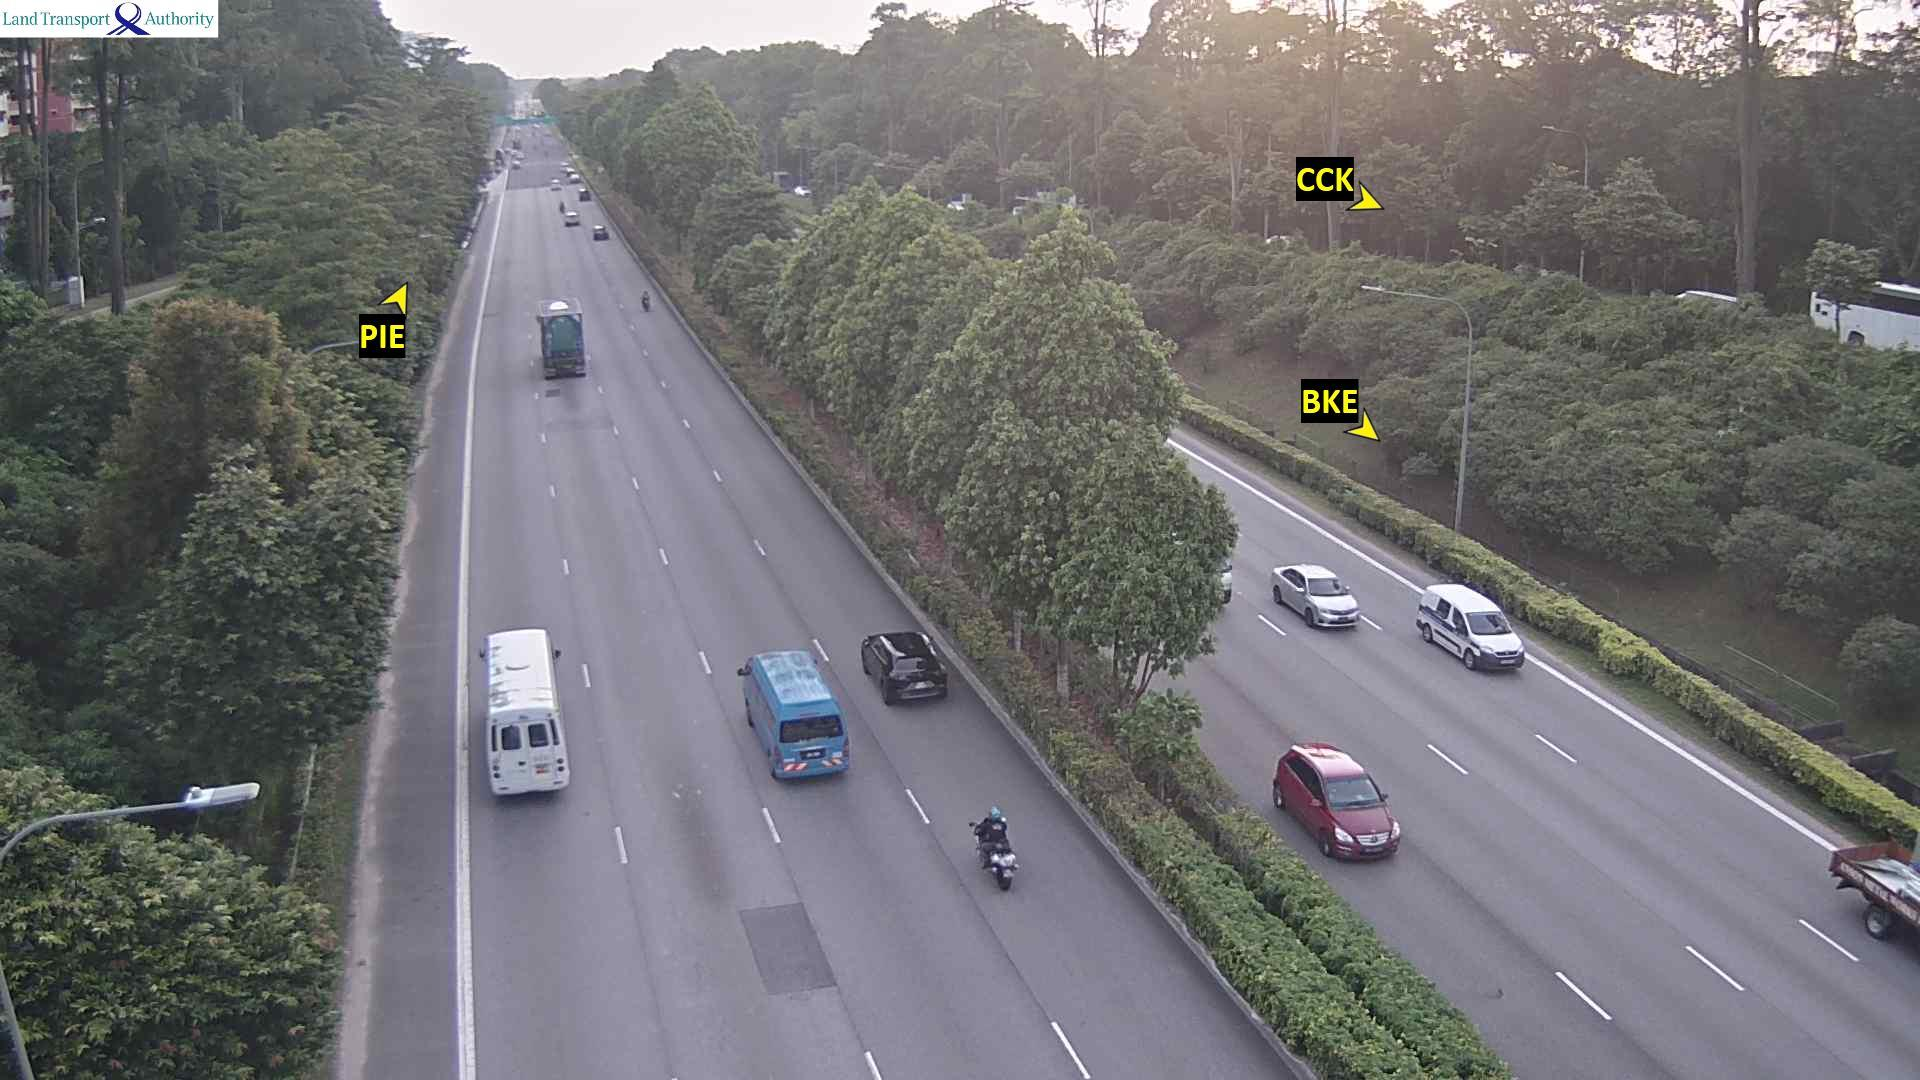bus: (477, 626, 570, 796), (1808, 278, 1917, 352)
cars: (1271, 741, 1400, 861), (735, 647, 851, 781), (1414, 582, 1524, 671), (1828, 841, 1919, 940), (1795, 717, 1898, 785), (858, 629, 948, 704), (1269, 562, 1360, 629), (1215, 555, 1232, 603), (563, 210, 579, 225), (592, 223, 607, 240), (793, 185, 810, 196), (578, 186, 589, 200), (549, 177, 560, 190), (568, 171, 580, 185), (559, 157, 572, 169), (510, 158, 521, 169)
motorcycle: (967, 799, 1019, 891), (640, 289, 650, 310), (558, 198, 566, 215)
trucks: (535, 297, 588, 378)
